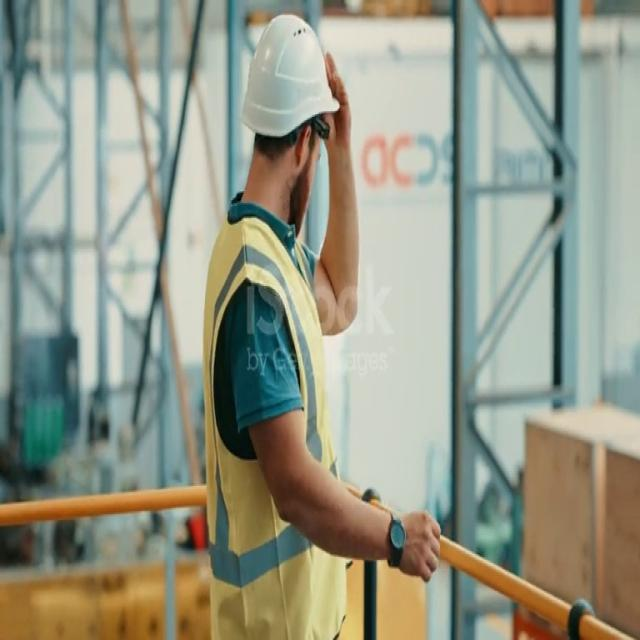capacete: (232, 14, 354, 156)
